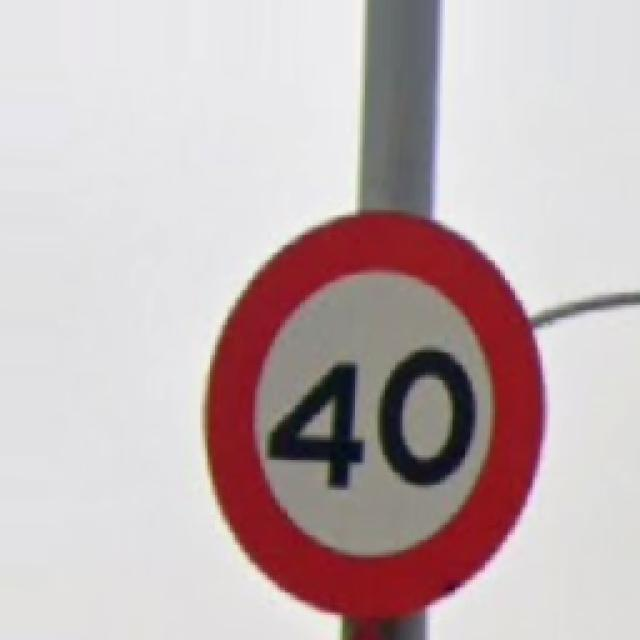Speed Limit -40-: (208, 212, 542, 612)
